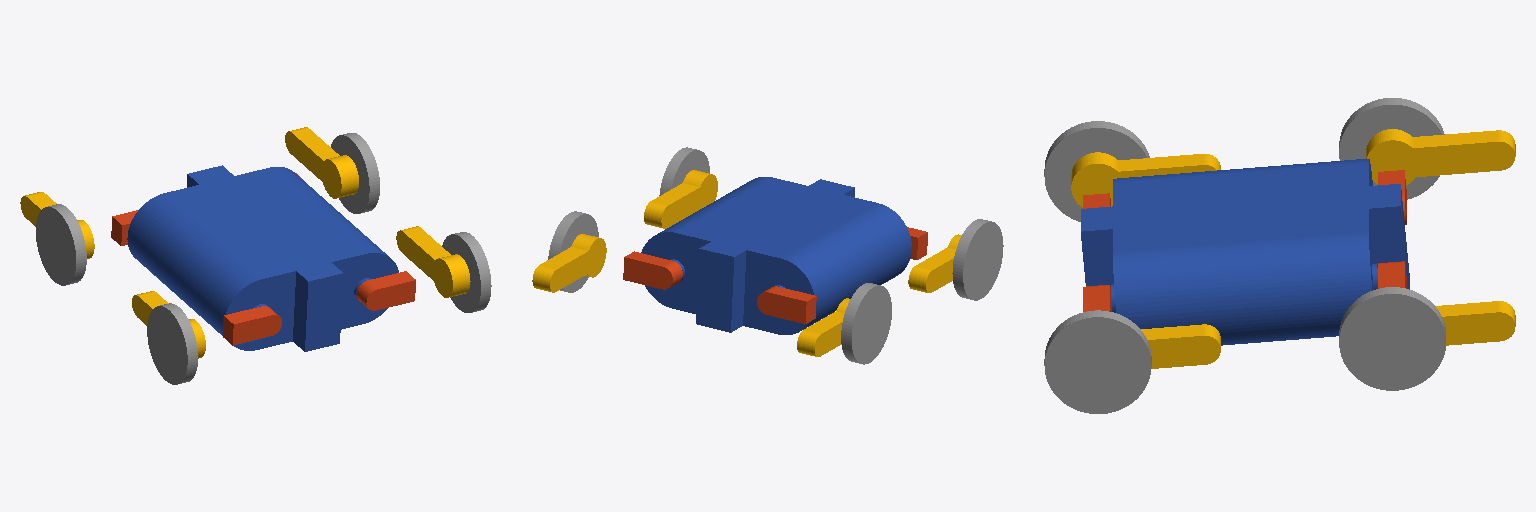
--- Render facts (derived) ---
3 views of the same robot in one strip: view 1: azimuth 30°, elevation 25°; view 2: azimuth 150°, elevation 25°; view 3: azimuth 270°, elevation 25° (orthographic).
Model wheely with 17 links and 16 joints (16 revolute), rooted at base, posed all joints at 0.
Links seen in each view (by area): view 1: base, BRW, FRW, BLLL, FLLL, FLW, BLW, FLH, FRH, FRLL, BRLL, BRH; view 2: base, BRW, FRW, BLLL, FLLL, BLH, BRH, FRLL, BRLL, BLW, FLW; view 3: base, FLW, BLW, BRLL, FRW, BRW, FRLL, BLLL, FLLL, FLH, BLH, BRH.
Link boxes in pixels (x1,y1,x2,y2): base: (127, 165, 398, 351); BRW: (36, 204, 86, 285); FRW: (147, 303, 197, 384); BLLL: (285, 127, 358, 198); FLLL: (396, 226, 470, 297); FLW: (442, 232, 491, 312); BLW: (331, 133, 379, 213); FLH: (356, 271, 415, 310); FRH: (223, 306, 281, 345); FRLL: (132, 291, 205, 358); BRLL: (20, 192, 94, 258); BRH: (111, 210, 137, 245); base: (641, 177, 911, 334); BRW: (841, 283, 891, 364); FRW: (952, 219, 1003, 300); BLLL: (532, 234, 606, 292); FLLL: (644, 170, 717, 228); BLH: (623, 251, 682, 289); BRH: (757, 286, 816, 323); FRLL: (908, 234, 961, 292); BRLL: (797, 298, 849, 356); BLW: (548, 211, 598, 292); FLW: (659, 147, 709, 226); base: (1081, 159, 1409, 345); FLW: (1044, 310, 1151, 413); BLW: (1339, 287, 1445, 390); BRLL: (1366, 129, 1515, 184); FRW: (1044, 121, 1149, 221); BRW: (1339, 98, 1444, 199); FRLL: (1071, 152, 1220, 207); BLLL: (1436, 301, 1515, 345); FLLL: (1141, 324, 1220, 368); FLH: (1083, 285, 1111, 311); BLH: (1378, 261, 1406, 288); BRH: (1378, 170, 1406, 224).
Bounding box of the posed robot: 0.433 × 0.4396 × 0.1258 m (x, y, z).
Meshes: 5 distinct files referenced, 13 mesh visuals loaded (4 binary STL); not drawn: 4 (reference not matched to a file when rendering).

The robot description file, URDF, robot "wheely":
<?xml version="1.0" encoding="utf-8"?>
<robot name="wheely">
    <!-- <link name="base">
        <visual>
            <origin rpy="0 0 0" xyz="0 0 0" />
            <geometry>
                <box size="0.001 0.001 0.001" />
            </geometry>
        </visual>
    </link>
    <joint name="floating_base" type="fixed">
        <origin rpy="0 0 0" xyz="0 0 0" />
        <parent link="base" />
        <child link="trunk" />
    </joint> -->
    <link name="base">
        <visual>
            <origin xyz="0.052028044034958947917 0.32788004898623768213 -0.25518667591527960381"
                rpy="0.087266480467832654999 -1.4990033074911502359e-08 -2.2094851261557873804e-08" />
            <geometry>
                <mesh filename="../meshes/V2.9/trunk.stl" />
            </geometry>
            <material name="trunk_material">
                <color rgba="0.2313725490196078538 0.38039215686274507888 0.7058823529411765163 1.0" />
            </material>
        </visual>
        <collision>
            <origin xyz="0.052028044034958947917 0.32788004898623768213 -0.25518667591527960381"
                rpy="0.087266480467832654999 -1.4990033074911502359e-08 -2.2094851261557873804e-08" />
            <geometry>
                <mesh filename="../meshes/V2.9/base_collision.stl" />
            </geometry>
        </collision>
        <inertial>
            <origin xyz="0.052028043192024649166 0.32352226095884867307 -0.20537694108855775177"
                rpy="0 0 0" />
            <mass value="1.0520000000000000462" />
            <inertia ixx="0.0066139164607848313637" ixy="-2.2127823919599840592e-11"
                ixz="-6.4087305219667747752e-11" iyy="0.0053174843071791873944"
                iyz="-0.00043473231152154929047" izz="0.010248462186210408054" />
        </inertial>
    </link>

    <link name="FRH">
        <visual>
            <origin xyz="0.032215611636638635806 0.028555101990603987128 0"
                rpy="1.570796326794896558 1.1108205397628203633e-25 2.389243996016179635e-24" />
            <geometry>
                <mesh filename="../meshes/V2.9/h.stl" />
            </geometry>
            <material name="h_material">
                <color
                    rgba="0.86666666666666669627 0.32156862745098041545 0.15686274509803921351 1.0" />
            </material>
        </visual>
        <inertial>
            <origin
                xyz="0.021525592503996215932 -1.7347234759768070944e-17 -0.012500000000000000694"
                rpy="0 0 0" />
            <mass value="0.0090000000000000010547" />
            <inertia ixx="1.1139804559497147109e-06" ixy="-4.7104694595813762511e-30"
                ixz="2.1217815524415606115e-30" iyy="3.861958513835964979e-06"
                iyz="4.2501859106604311021e-23" izz="4.0384389697856793485e-06" />
        </inertial>
    </link>

    <link name="FRLU">
        <visual>
            <origin
                xyz="2.7755575615628913511e-17 2.7755575615628913511e-17 -0.044999999999999998335"
                rpy="-1.570796326794896558 -1.570796326794896558 0" />
            <geometry>
                <mesh filename="../meshes/V2.9/lu.stl" />
            </geometry>
            <material name="lu_material">
                <color
                    rgba="0.90980392156862743835 0.57254901960784310155 0.16470588235294117418 1.0" />
            </material>
        </visual>
        <collision>
            <origin
                xyz="2.7755575615628913511e-17 2.7755575615628913511e-17 -0.044999999999999998335"
                rpy="-1.570796326794896558 -1.570796326794896558 0" />
            <geometry>
                <mesh filename="../meshes/V2.9/LU_collision.stl" />
            </geometry>
        </collision>
        <inertial>
            <origin
                xyz="3.3936924476517365403e-17 -0.049999999999999968081 -0.022499999999999992228"
                rpy="0 0 0" />
            <mass value="0.37600000000000000089" />
            <inertia ixx="0.00054596018323756559387" ixy="-6.2909339871692696768e-21"
                ixz="-2.7466218204555690158e-28" iyy="9.0305640199817038306e-05"
                iyz="-1.1186833988322070734e-27" izz="0.00050936582343738242076" />
        </inertial>
    </link>

    <link name="FRLL">
        <visual>
            <origin xyz="0 0 -0.024999999999999980571"
                rpy="-1.570796326794896558 -1.570796326794896558 0" />
            <geometry>
                <mesh filename="../meshes/V2.9/ll.stl" />
            </geometry>
            <material name="ll_material">
                <color rgba="1 0.7568627450980391913 0.054901960784313724728 1.0" />
            </material>
        </visual>
        <collision>
            <origin xyz="0 0 -0.024999999999999980571"
                rpy="-1.570796326794896558 -1.570796326794896558 0" />
            <geometry>
                <mesh filename="../meshes/V2.9/LL_collision.stl" />
            </geometry>
        </collision>
        <inertial>
            <origin
                xyz="5.4351954812993782202e-18 -0.061136909622975937895 -0.012499999999999978142"
                rpy="0 0 0" />
            <mass value="0.058000000000000002942" />
            <inertia ixx="9.3657217382847482521e-05" ixy="1.8944387790966397996e-21"
                ixz="1.9264078887896144911e-28" iyy="9.3296789238021415761e-06"
                iyz="8.0611222752185609261e-29" izz="9.6945229639982987888e-05" />
        </inertial>
    </link>

    <link name="FRW">
        <visual>
            <origin xyz="-0.087087206542491885086 -0.027046862989664105514 -0.015000000000000041078"
                rpy="-1.570796326794896558 -1.570796326794896558 0" />
            <geometry>
                <mesh filename="../meshes/V2.9/w.stl" />
            </geometry>
            <material name="w_material">
                <color
                    rgba="0.64705882352941179736 0.64705882352941179736 0.64705882352941179736 1.0" />
            </material>
        </visual>
        <collision>
            <origin xyz="-0.087087206542491885086 -0.027046862989664105514 -0.015000000000000041078"
                rpy="-1.570796326794896558 -1.570796326794896558 0" />
            <geometry>
                <mesh filename="../meshes/V2.9/W_collision.stl" />
            </geometry>
        </collision>
        <inertial>
            <origin
                xyz="4.1117825183426055003e-17 -2.7755575615628913511e-17 -0.0075000000000000422232"
                rpy="0 0 0" />
            <mass value="0.036999999999999998168" />
            <inertia ixx="2.3818750000000009755e-05" ixy="-3.3980231466975062248e-22"
                ixz="-2.3298381774475384034e-28" iyy="2.3818750000000006367e-05"
                iyz="6.4062349800968410432e-29" izz="4.6249999999999985784e-05" />
        </inertial>
    </link>

    <joint name="FRW" type="revolute">
        <origin xyz="0 -0.09999999999999995004 -0.025499999999999981015"
            rpy="1.9733806694702264955e-23 -1.1152152026486324738e-23 1.57079632679489678" />
        <parent link="FRLL" />
        <child link="FRW" />
        <axis xyz="0 0 1" />
        <limit effort="3.43" velocity="1.5707" />
        <dynamics damping="0.5" friction="0.0"/>
    </joint>

    <joint name="FRK" type="revolute">
        <origin xyz="2.7755575615628913511e-17 -0.099999999999999894529 -0.045500000000000012657"
            rpy="-7.1116470838921432146e-22 -2.2925350776676440181e-23 3.141592653589753148" />
        <parent link="FRLU" />
        <child link="FRLL" />
        <axis xyz="0 0 1" />
        <limit effort="16.864655" velocity="8.055365759832842"/>
        <dynamics damping="0.5" friction="0.0"/>
    </joint>

    <joint name="FRHL" type="revolute">
        <origin xyz="0.055499999999999966027 -5.5511151231257827021e-17 -0.012499999999999983347"
            rpy="-1.570796326794896558 -1.7868117234929788401e-08 1.5707963267948958919" />
        <parent link="FRH" />
        <child link="FRLU" />
        <axis xyz="0 0 1" />
        <limit effort="16.864655" velocity="8.055365759832842"/>
        <dynamics damping="0.5" friction="0.0"/>
    </joint>

    <joint name="FRHU" type="revolute">
        <origin xyz="-0.022971959406365649592 0.19849982820089065449 -0.21631499016155675275"
            rpy="1.4835298463270636393 1.4990033393763916416e-08 3.1415926314949418341" />
        <parent link="base" />
        <child link="FRH" />
        <axis xyz="0 0 1" />
        <limit effort="16.864655" velocity="8.055365759832842"/>
        <dynamics damping="0.5" friction="0.0"/>
    </joint>

    <link name="FLH">
        <visual>
            <origin xyz="0.032215611636638635806 0.028555101990604014883 0"
                rpy="1.570796326794896558 9.1075724079965769096e-25 1.505906012323039885e-24" />
            <geometry>
                <mesh filename="../meshes/V2.9/h.stl" />
            </geometry>
            <material name="h_material">
                <color
                    rgba="0.86666666666666669627 0.32156862745098041545 0.15686274509803921351 1.0" />
            </material>
        </visual>
        <inertial>
            <origin xyz="0.021525592503996215932 1.0408340855860842566e-17 -0.012500000000000000694"
                rpy="0 0 0" />
            <mass value="0.0090000000000000010547" />
            <inertia ixx="1.1139804559497151344e-06" ixy="-1.9689084518447163995e-31"
                ixz="3.3800616490418434534e-30" iyy="3.861958513835964979e-06"
                iyz="-2.7196292853585677277e-23" izz="4.0384389697856793485e-06" />
        </inertial>
    </link>

    <link name="FLLU">
        <visual>
            <origin xyz="-2.7755575615628913511e-17 -2.7755575615628913511e-17 0"
                rpy="1.570796326794896558 1.570796326794896558 0" />
            <geometry>
                <mesh filename="../meshes/V2.9/lu.stl" />
            </geometry>
            <material name="lu_material">
                <color
                    rgba="0.90980392156862743835 0.57254901960784310155 0.16470588235294117418 1.0" />
            </material>
        </visual>
        <collision>
            <origin xyz="-2.7755575615628913511e-17 -2.7755575615628913511e-17 0"
                rpy="1.570796326794896558 1.570796326794896558 0" />
            <geometry>
                <mesh filename="../meshes/V2.9/LU_collision.stl" />
            </geometry>
        </collision>
        <inertial>
            <origin
                xyz="-2.2274676627093840081e-17 0.049999999999999981959 -0.022500000000000006106"
                rpy="0 0 0" />
            <mass value="0.37600000000000000089" />
            <inertia ixx="0.00054596018323756537703" ixy="-2.2992841737624431057e-21"
                ixz="2.7015283880290629614e-28" iyy="9.0305640199817092516e-05"
                iyz="-9.070826082759685624e-29" izz="0.00050936582343738242076" />
        </inertial>
    </link>

    <link name="FLLL">
        <visual>
            <origin xyz="0 0 0" rpy="1.570796326794896558 1.570796326794896558 0" />
            <geometry>
                <mesh filename="../meshes/V2.9/ll.stl" />
            </geometry>
            <material name="ll_material">
                <color rgba="1 0.7568627450980391913 0.054901960784313724728 1.0" />
            </material>
        </visual>
        <collision>
            <origin xyz="0 0 0" rpy="1.570796326794896558 1.570796326794896558 0" />
            <geometry>
                <mesh filename="../meshes/V2.9/LL_collision.stl" />
            </geometry>
        </collision>
        <inertial>
            <origin xyz="5.7405508275014623238e-18 0.061136909622975937895 -0.012500000000000002429"
                rpy="0 0 0" />
            <mass value="0.058000000000000002942" />
            <inertia ixx="9.3657217382847509626e-05" ixy="1.3290574521296746837e-21"
                ixz="6.6457046954983543975e-31" iyy="9.3296789238021415761e-06"
                iyz="1.723172485519355639e-28" izz="9.6945229639982987888e-05" />
        </inertial>
    </link>

    <link name="FLW">
        <visual>
            <origin xyz="-0.087087206542491898964 0.027046862989664105514 0"
                rpy="1.570796326794896558 1.570796326794896558 0" />
            <geometry>
                <mesh filename="../meshes/V2.9/w.stl" />
            </geometry>
            <material name="w_material">
                <color
                    rgba="0.64705882352941179736 0.64705882352941179736 0.64705882352941179736 1.0" />
            </material>
        </visual>
        <collision>
            <origin xyz="-0.087087206542491898964 0.027046862989664105514 0"
                rpy="1.570796326794896558 1.570796326794896558 0" />
            <geometry>
                <mesh filename="../meshes/V2.9/W_collision.stl" />
            </geometry>
        </collision>
        <inertial>
            <origin
                xyz="1.4189161324449813362e-17 2.7755575615628913511e-17 -0.0074999999999999997224"
                rpy="0 0 0" />
            <mass value="0.036999999999999998168" />
            <inertia ixx="2.3818749999999996202e-05" ixy="-5.4842054254748524998e-22"
                ixz="-4.3511704709532121015e-29" iyy="2.3818750000000006367e-05"
                iyz="1.5881364658331320458e-29" izz="4.6249999999999999336e-05" />
        </inertial>
    </link>

    <joint name="FLW" type="revolute">
        <origin xyz="-5.5511151231257827021e-17 0.10000000000000056066 -0.025499999999999994893"
            rpy="-1.7353970132847589299e-16 5.3303376734589298289e-17 -1.5707963267948992225" />
        <parent link="FLLL" />
        <child link="FLW" />
        <axis xyz="0 0 1" />
        <limit effort="3.43" velocity="1.5707" />
        <dynamics damping="0.5" friction="0.0"/>
    </joint>

    <joint name="FLK" type="revolute">
        <origin xyz="-2.7755575615628913511e-17 0.10000000000000000555 -0.045500000000000068168"
            rpy="-7.8652590286309986181e-18 -4.7062504561224808517e-16 3.1415926520183123927" />
        <parent link="FLLU" />
        <child link="FLLL" />
        <axis xyz="0 0 1" />
        <limit effort="16.864655" velocity="8.055365759832842"/>
        <dynamics damping="0.5" friction="0.0"/>
    </joint>

    <joint name="FLHL" type="revolute">
        <origin xyz="0.055500000000000021538 2.7755575615628913511e-17 -0.012500000000000011102"
            rpy="1.570796326794896558 -4.159598675987668933e-09 -1.5707963267948958919" />
        <parent link="FLH" />
        <child link="FLLU" />
        <axis xyz="0 0 1" />
        <limit effort="16.864655" velocity="8.055365759832842"/>
        <dynamics damping="0.5" friction="0.0"/>
    </joint>

    <joint name="FLHU" type="revolute">
        <origin xyz="0.12702804059363420608 0.19849982488666309544 -0.21631498791305175944"
            rpy="-1.4835298463270638614 6.7904519714569485168e-09 -2.0189305413825018056e-08" />
        <parent link="base" />
        <child link="FLH" />
        <axis xyz="0 0 1" />
        <limit effort="16.864655" velocity="8.055365759832842"/>
        <dynamics damping="0.5" friction="0.0"/>
    </joint>

    <link name="BLH">
        <visual>
            <origin xyz="0.032215611636638663562 -0.028555101990604014883 -0.025000000000000022204"
                rpy="-1.570796326794896558 -8.10198965264292864e-25 9.4990879062215657594e-26" />
            <geometry>
                <mesh filename="../meshes/V2.9/h.stl" />
            </geometry>
            <material name="h_material">
                <color
                    rgba="0.86666666666666669627 0.32156862745098041545 0.15686274509803921351 1.0" />
            </material>
        </visual>
        <inertial>
            <origin
                xyz="0.021525592503996243687 -1.0408340855860842566e-17 -0.012500000000000018041"
                rpy="0 0 0" />
            <mass value="0.0090000000000000010547" />
            <inertia ixx="1.1139804559497151344e-06" ixy="5.4442413068550483629e-31"
                ixz="1.6844066981830151369e-30" iyy="3.861958513835964979e-06"
                iyz="8.6849436149024970986e-23" izz="4.0384389697856810426e-06" />
        </inertial>
    </link>

    <link name="BLLU">
        <visual>
            <origin xyz="-5.5511151231257827021e-17 0 0"
                rpy="1.570796326794896558 1.570796326794896558 0" />
            <geometry>
                <mesh filename="../meshes/V2.9/lu.stl" />
            </geometry>
            <material name="lu_material">
                <color
                    rgba="0.90980392156862743835 0.57254901960784310155 0.16470588235294117418 1.0" />
            </material>
        </visual>
        <collision>
            <origin xyz="-5.5511151231257827021e-17 0 0"
                rpy="1.570796326794896558 1.570796326794896558 0" />
            <geometry>
                <mesh filename="../meshes/V2.9/LU_collision.stl" />
            </geometry>
        </collision>
        <inertial>
            <origin
                xyz="-4.9670691399645773857e-17 0.049999999999999995837 -0.022500000000000006106"
                rpy="0 0 0" />
            <mass value="0.37600000000000000089" />
            <inertia ixx="0.00054596018323756537703" ixy="1.1357734578361653713e-21"
                ixz="1.6575077737249074558e-29" iyy="9.0305640199817038306e-05"
                iyz="-7.7086529605856559569e-28" izz="0.00050936582343738242076" />
        </inertial>
    </link>

    <link name="BLLL">
        <visual>
            <origin xyz="2.7755575615628913511e-17 0 0"
                rpy="1.570796326794896558 1.570796326794896558 0" />
            <geometry>
                <mesh filename="../meshes/V2.9/ll.stl" />
            </geometry>
            <material name="ll_material">
                <color rgba="1 0.7568627450980391913 0.054901960784313724728 1.0" />
            </material>
        </visual>
        <collision>
            <origin xyz="2.7755575615628913511e-17 0 0"
                rpy="1.570796326794896558 1.570796326794896558 0" />
            <geometry>
                <mesh filename="../meshes/V2.9/LL_collision.stl" />
            </geometry>
        </collision>
        <inertial>
            <origin xyz="3.1490883241477422783e-17 0.061136909622975937895 -0.012500000000000002429"
                rpy="0 0 0" />
            <mass value="0.058000000000000002942" />
            <inertia ixx="9.3657217382847563836e-05" ixy="-4.5788073598597132874e-22"
                ixz="-8.9882329698141912439e-30" iyy="9.3296789238021415761e-06"
                iyz="3.1104732328345600481e-28" izz="9.6945229639982987888e-05" />
        </inertial>
    </link>

    <link name="BLW">
        <visual>
            <origin xyz="-0.087087206542491912842 0.027046862989664050003 0"
                rpy="1.570796326794896558 1.570796326794896558 0" />
            <geometry>
                <mesh filename="../meshes/V2.9/w.stl" />
            </geometry>
            <material name="w_material">
                <color
                    rgba="0.64705882352941179736 0.64705882352941179736 0.64705882352941179736 1.0" />
            </material>
        </visual>
        <collision>
            <origin xyz="-0.087087206542491912842 0.027046862989664050003 0"
                rpy="1.570796326794896558 1.570796326794896558 0" />
            <geometry>
                <mesh filename="../meshes/V2.9/W_collision.stl" />
            </geometry>
        </collision>
        <inertial>
            <origin
                xyz="2.8662840708343162277e-20 -2.7755575615628913511e-17 -0.0074999999999999997224"
                rpy="0 0 0" />
            <mass value="0.036999999999999998168" />
            <inertia ixx="2.3818749999999996202e-05" ixy="1.1371586916183490444e-22"
                ixz="-3.4166129223600548991e-29" iyy="2.3818750000000006367e-05"
                iyz="3.7530894346167913993e-30" izz="4.6249999999999999336e-05" />
        </inertial>
    </link>

    <joint name="BLW" type="revolute">
        <origin xyz="0 0.10000000000000003331 -0.025500000000000022649"
            rpy="-3.6944196118392699176e-24 8.8577126057210653786e-24 1.570796326794896558" />
        <parent link="BLLL" />
        <child link="BLW" />
        <axis xyz="0 0 1" />
        <limit effort="3.43" velocity="1.5707" />
        <dynamics damping="0.5" friction="0.0"/>
    </joint>

    <joint name="BLK" type="revolute">
        <origin xyz="-2.7755575615628913511e-17 0.10000000000000003331 -0.045499999999999984901"
            rpy="1.4434690318418828902e-23 -2.1427618407478369809e-16 3.1415926503251903057" />
        <parent link="BLLU" />
        <child link="BLLL" />
        <axis xyz="0 0 1" />
        <limit effort="16.864655" velocity="8.055365759832842"/>
        <dynamics damping="0.5" friction="0.0"/>
    </joint>

    <joint name="BLHL" type="revolute">
        <origin xyz="0.055500000000000049294 0 -0.012500000000000011102"
            rpy="-1.570796326794896558 4.159598612862823089e-09 1.57079632679489678" />
        <parent link="BLH" />
        <child link="BLLU" />
        <axis xyz="0 0 1" />
        <limit effort="16.864655" velocity="8.055365759832842"/>
        <dynamics damping="0.5" friction="0.0"/>
    </joint>

    <joint name="BLHU" type="revolute">
        <origin xyz="0.12702804579041498956 0.44854469371680671941 -0.19443889201555877855"
            rpy="1.6580628072627294767 1.8044978216328643843e-09 -2.0625520126565480844e-08" />
        <parent link="base" />
        <child link="BLH" />
        <axis xyz="0 0 1" />
        <limit effort="16.864655" velocity="8.055365759832842"/>
        <dynamics damping="0.5" friction="0.0"/>
    </joint>

    <link name="BRH">
        <visual>
            <origin xyz="0.032215611636638642745 -0.028555101990603987128 -0.025000000000000022204"
                rpy="-1.570796326794896558 -1.4998403820108036855e-24 -4.3122347891137220117e-26" />
            <geometry>
                <mesh filename="../meshes/V2.9/h.stl" />
            </geometry>
            <material name="h_material">
                <color
                    rgba="0.86666666666666669627 0.32156862745098041545 0.15686274509803921351 1.0" />
            </material>
        </visual>
        <inertial>
            <origin xyz="0.021525592503996222871 1.7347234759768070944e-17 -0.012500000000000018041"
                rpy="0 0 0" />
            <mass value="0.0090000000000000010547" />
            <inertia ixx="1.1139804559497151344e-06" ixy="9.3627191242228544418e-32"
                ixz="-4.7049295494197803859e-30" iyy="3.861958513835964979e-06"
                iyz="-1.4219191714590580432e-22" izz="4.0384389697856810426e-06" />
        </inertial>
    </link>

    <link name="BRLU">
        <visual>
            <origin xyz="0 0 -0.044999999999999998335"
                rpy="-1.570796326794896558 -1.570796326794896558 0" />
            <geometry>
                <mesh filename="../meshes/V2.9/lu.stl" />
            </geometry>
            <material name="lu_material">
                <color
                    rgba="0.90980392156862743835 0.57254901960784310155 0.16470588235294117418 1.0" />
            </material>
        </visual>
        <collision>
            <origin xyz="0 0 -0.044999999999999998335"
                rpy="-1.570796326794896558 -1.570796326794896558 0" />
            <geometry>
                <mesh filename="../meshes/V2.9/LU_collision.stl" />
            </geometry>
        </collision>
        <inertial>
            <origin
                xyz="5.5531692938527983593e-18 -0.049999999999999995837 -0.022499999999999992228"
                rpy="0 0 0" />
            <mass value="0.37600000000000000089" />
            <inertia ixx="0.00054596018323756516019" ixy="6.9271241937707520723e-21"
                ixz="3.9087517827652982159e-29" iyy="9.0305640199817065411e-05"
                iyz="-1.0600944170879576797e-27" izz="0.00050936582343738242076" />
        </inertial>
    </link>

    <link name="BRLL">
        <visual>
            <origin xyz="0 -1.1102230246251565404e-16 -0.025000000000000008327"
                rpy="-1.570796326794896558 -1.570796326794896558 0" />
            <geometry>
                <mesh filename="../meshes/V2.9/ll.stl" />
            </geometry>
            <material name="ll_material">
                <color rgba="1 0.7568627450980391913 0.054901960784313724728 1.0" />
            </material>
        </visual>
        <collision>
            <origin xyz="0 -1.1102230246251565404e-16 -0.025000000000000008327"
                rpy="-1.570796326794896558 -1.570796326794896558 0" />
            <geometry>
                <mesh filename="../meshes/V2.9/LL_collision.stl" />
            </geometry>
        </collision>
        <inertial>
            <origin
                xyz="4.7243804506977838144e-18 -0.061136909622976041978 -0.012500000000000005898"
                rpy="0 0 0" />
            <mass value="0.058000000000000002942" />
            <inertia ixx="9.3657217382847482521e-05" ixy="1.6483546605587253019e-21"
                ixz="-8.8628767452269487272e-30" iyy="9.3296789238021381879e-06"
                iyz="5.3997135265007105726e-28" izz="9.6945229639982987888e-05" />
        </inertial>
    </link>

    <link name="BRW">
        <visual>
            <origin xyz="-0.087087206542491912842 -0.027046862989664077759 -0.014999999999999985567"
                rpy="-1.570796326794896558 -1.570796326794896558 0" />
            <geometry>
                <mesh filename="../meshes/V2.9/w.stl" />
            </geometry>
            <material name="w_material">
                <color
                    rgba="0.64705882352941179736 0.64705882352941179736 0.64705882352941179736 1.0" />
            </material>
        </visual>
        <collision>
            <origin xyz="-0.087087206542491912842 -0.027046862989664077759 -0.014999999999999985567"
                rpy="-1.570796326794896558 -1.570796326794896558 0" />
            <geometry>
                <mesh filename="../meshes/V2.9/W_collision.stl" />
            </geometry>
        </collision>
        <inertial>
            <origin xyz="-2.8890779271810086101e-19 0 -0.007499999999999986712" rpy="0 0 0" />
            <mass value="0.036999999999999998168" />
            <inertia ixx="2.3818749999999996202e-05" ixy="-1.4893564017461954635e-22"
                ixz="-2.1087778044115507542e-28" iyy="2.3818750000000006367e-05"
                iyz="1.0999008652864504797e-30" izz="4.6249999999999999336e-05" />
        </inertial>
    </link>

    <joint name="BRW" type="revolute">
        <origin xyz="0 -0.10000000000000014433 -0.025500000000000008771"
            rpy="-1.4611617380436203065e-24 -7.6761477915259036595e-24 -1.5707963267949449637" />
        <parent link="BRLL" />
        <child link="BRW" />
        <axis xyz="0 0 1" />
        <limit effort="3.43" velocity="1.5707" />
        <dynamics damping="0.5" friction="0.0"/>
    </joint>

    <joint name="BRK" type="revolute">
        <origin xyz="0 -0.10000000000000008882 -0.045499999999999998779"
            rpy="2.4133500580982883301e-16 -8.1245406211814635824e-17 -3.1415926503251419" />
        <parent link="BRLU" />
        <child link="BRLL" />
        <axis xyz="0 0 1" />
        <limit effort="16.864655" velocity="8.055365759832842"/>
        <dynamics damping="0.5" friction="0.0"/>
    </joint>

    <joint name="BRHL" type="revolute">
        <origin xyz="0.055499999999999979905 0 -0.012500000000000011102"
            rpy="1.570796326794896558 4.1595986025831493502e-09 -1.5707963267948985564" />
        <parent link="BRH" />
        <child link="BRLU" />
        <axis xyz="0 0 1" />
        <limit effort="16.864655" velocity="8.055365759832842"/>
        <dynamics damping="0.5" friction="0.0"/>
    </joint>

    <joint name="BRHU" type="revolute">
        <origin xyz="-0.022971954209584755091 0.44854469703103438949 -0.1944388942640637441"
            rpy="-1.6580628072627294767 -1.8044955021529479955e-09 3.1415926329642727133" />
        <parent link="base" />
        <child link="BRH" />
        <axis xyz="0 0 1" />
        <limit effort="16.864655" velocity="8.055365759832842"/>
        <dynamics damping="0.5" friction="0.0"/>
    </joint>


</robot>
